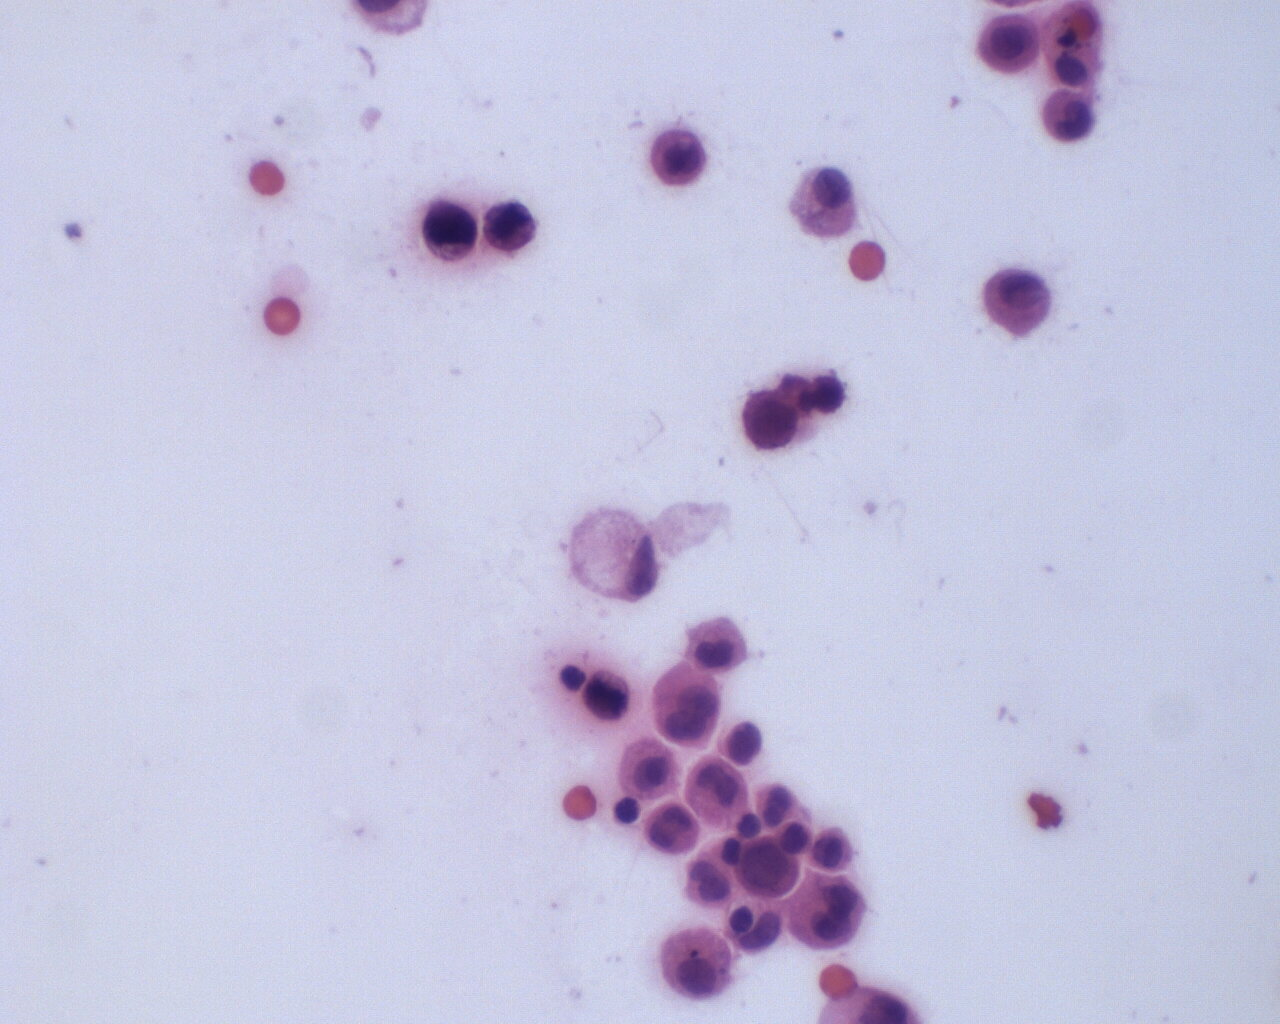ab: (737, 833, 801, 900), (739, 387, 799, 453), (1039, 84, 1099, 147), (422, 199, 480, 265), (648, 125, 707, 187), (480, 197, 539, 258), (581, 668, 633, 726)
histo: (567, 507, 661, 603)
lymph: (612, 795, 644, 828)
meso: (657, 922, 736, 1001), (979, 265, 1058, 342), (616, 734, 683, 802), (976, 11, 1042, 78)
